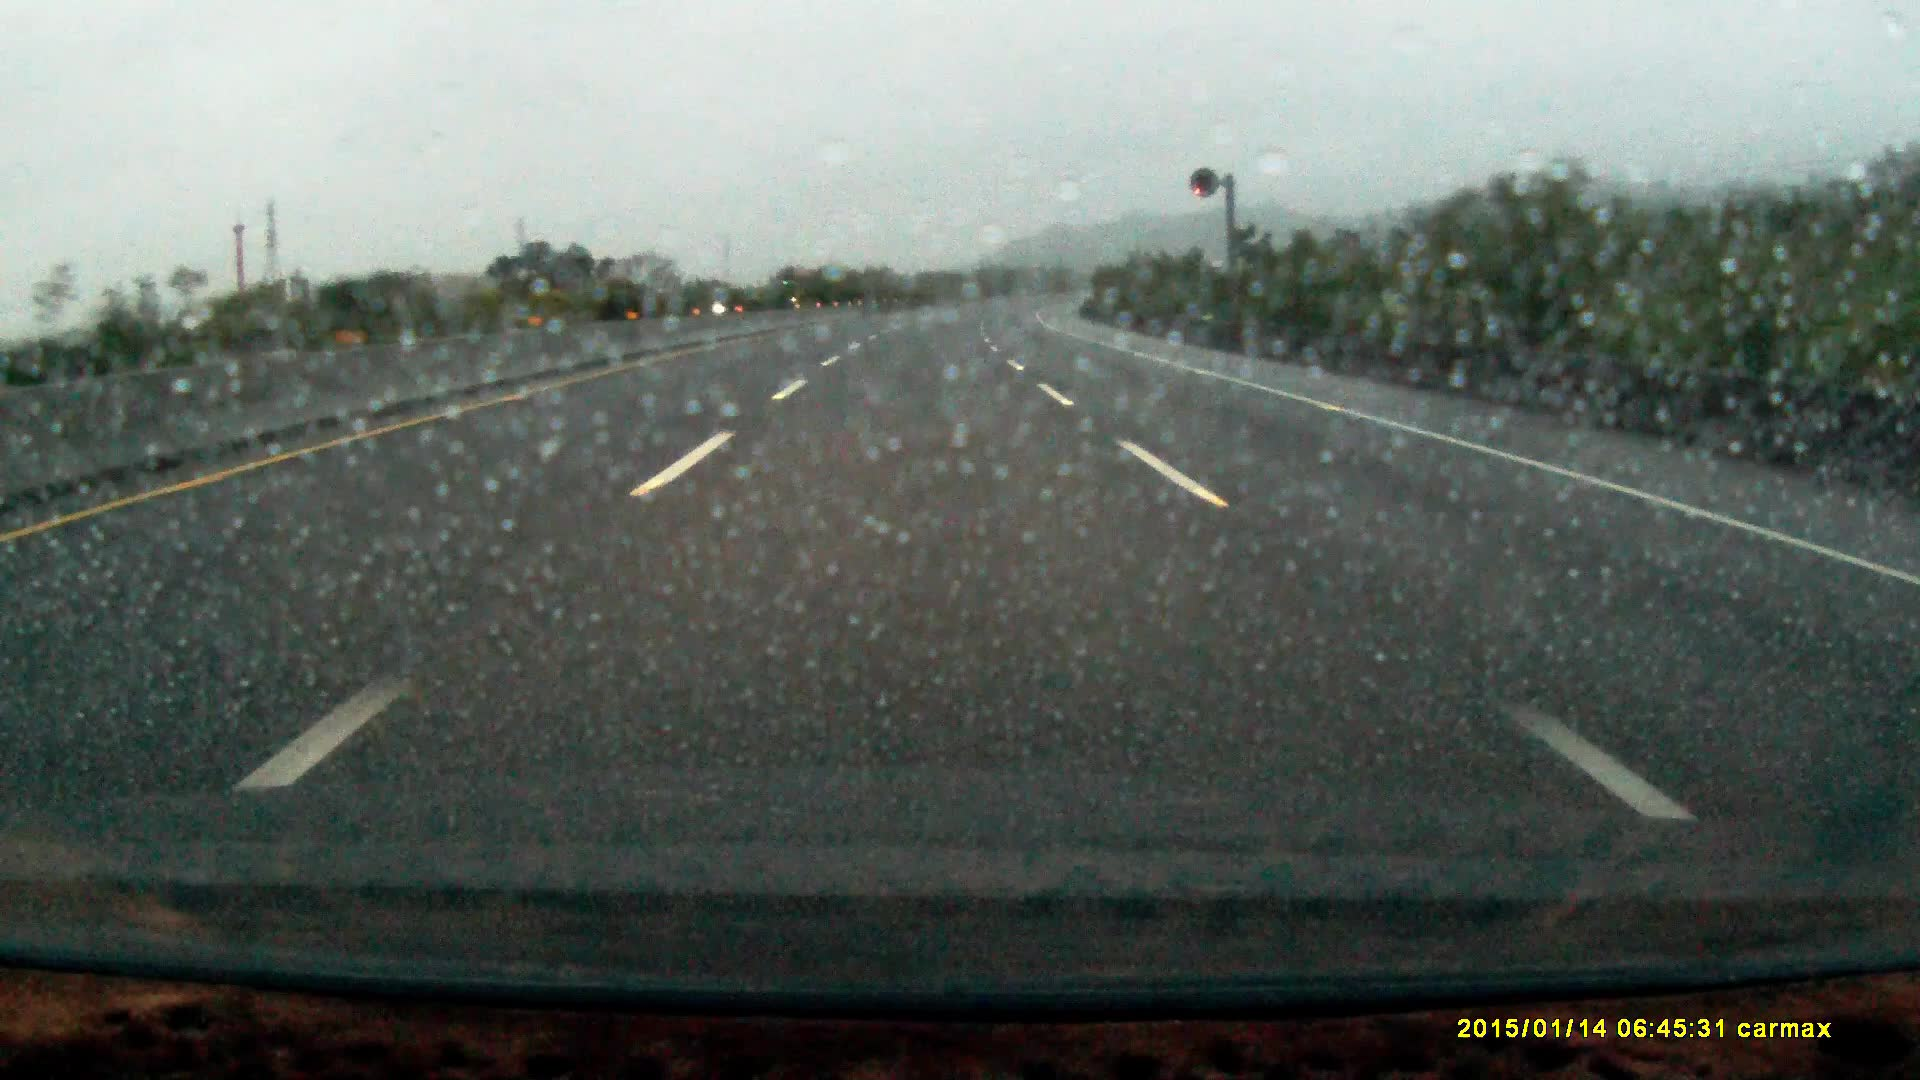vehicle: (775, 265, 818, 305)
